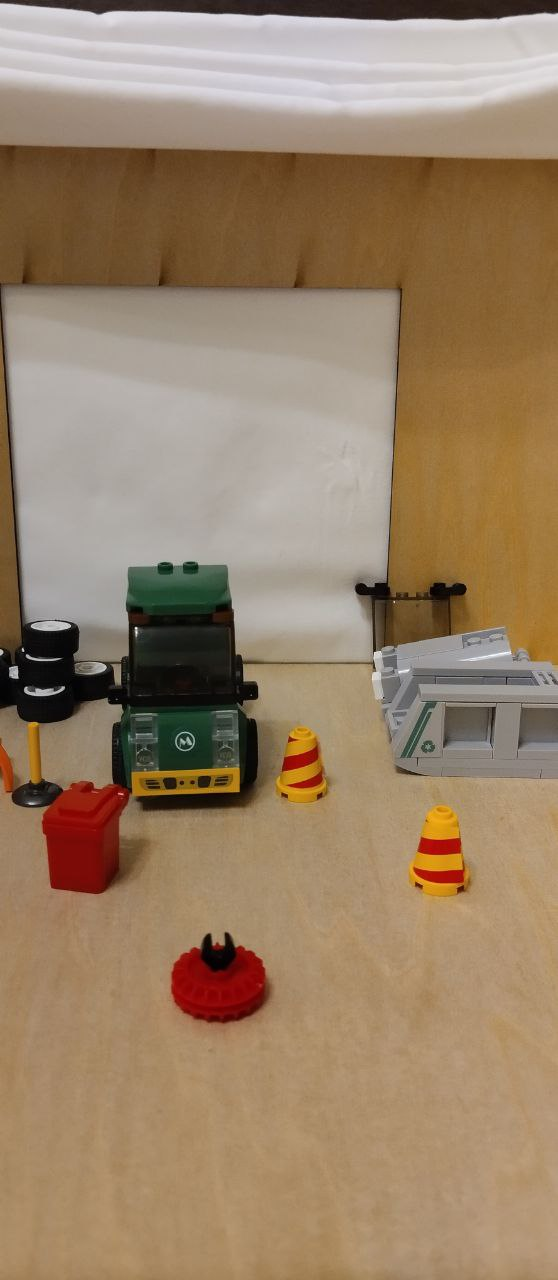Cone: (406, 801, 479, 897), (269, 720, 329, 805)
Object Red: (43, 780, 138, 894)
Truck: (104, 561, 266, 810)
